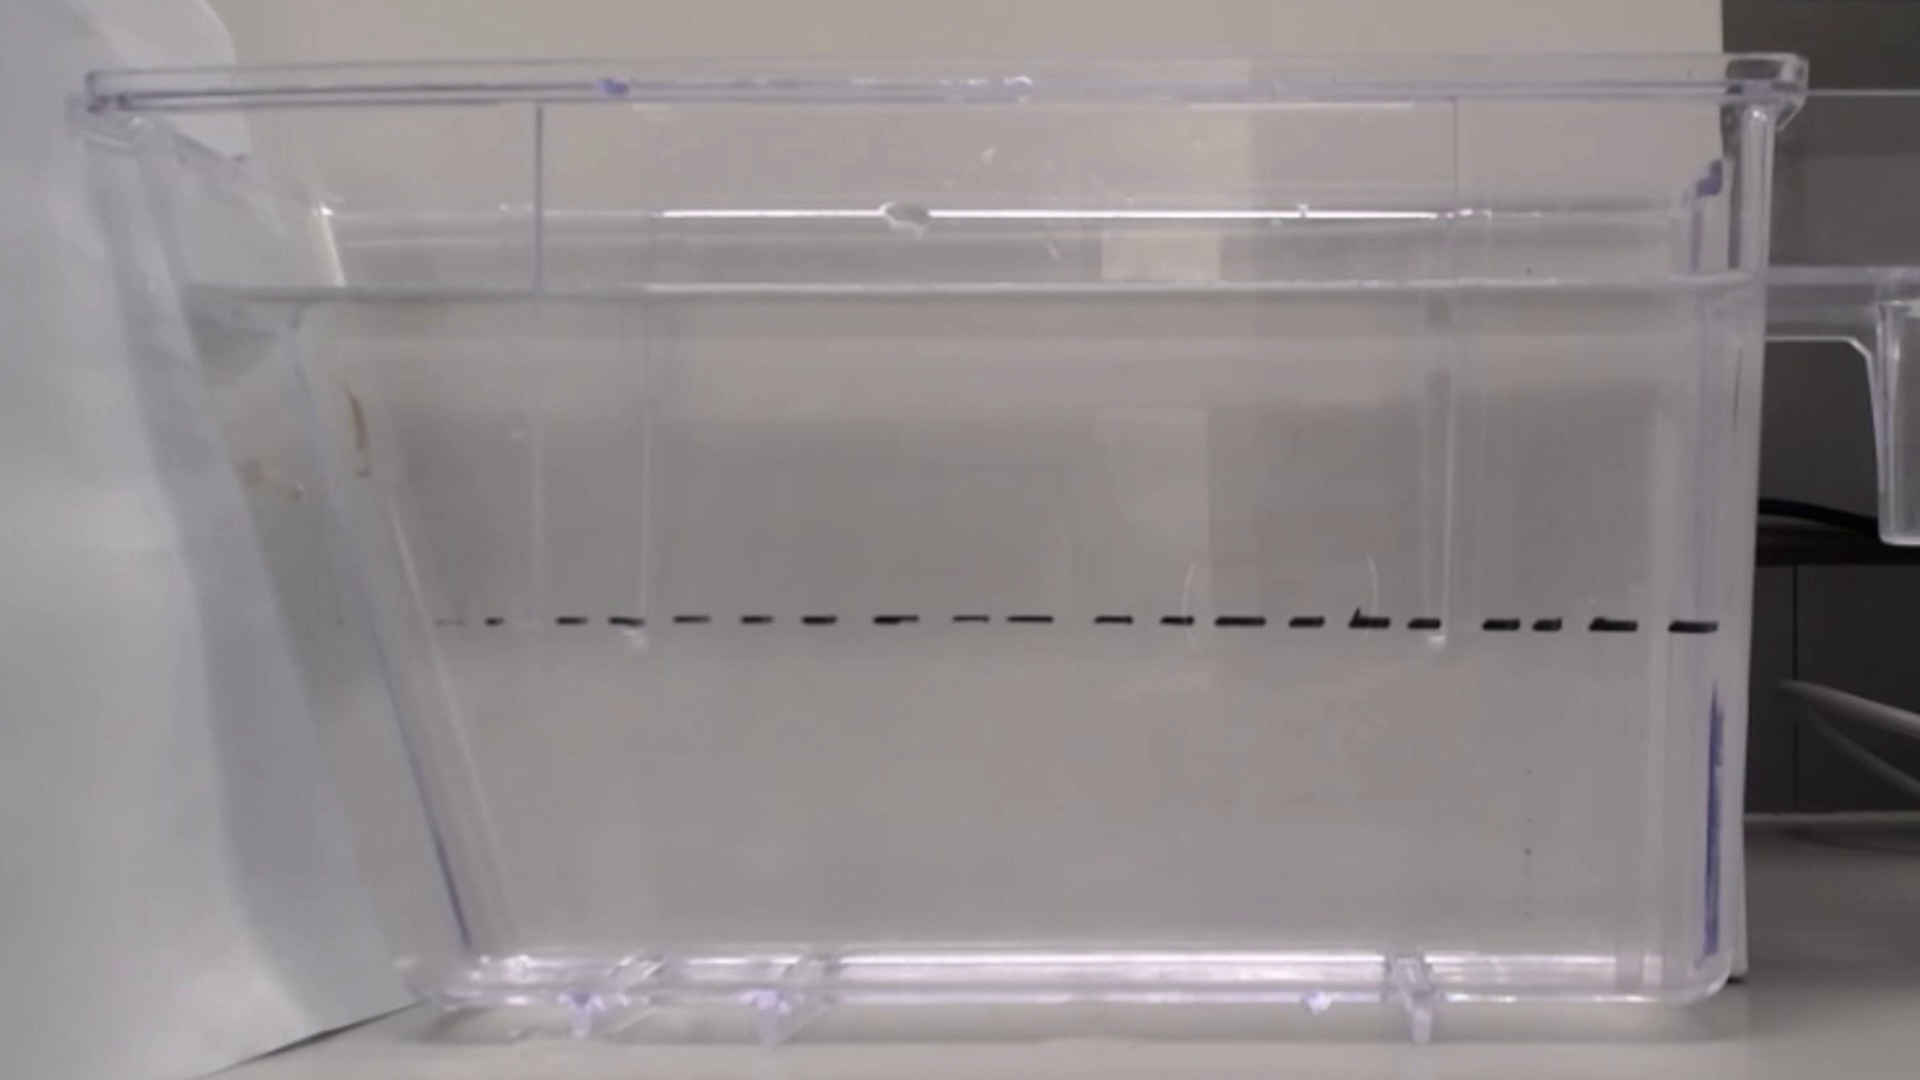zebrafish: (315, 356, 400, 505)
